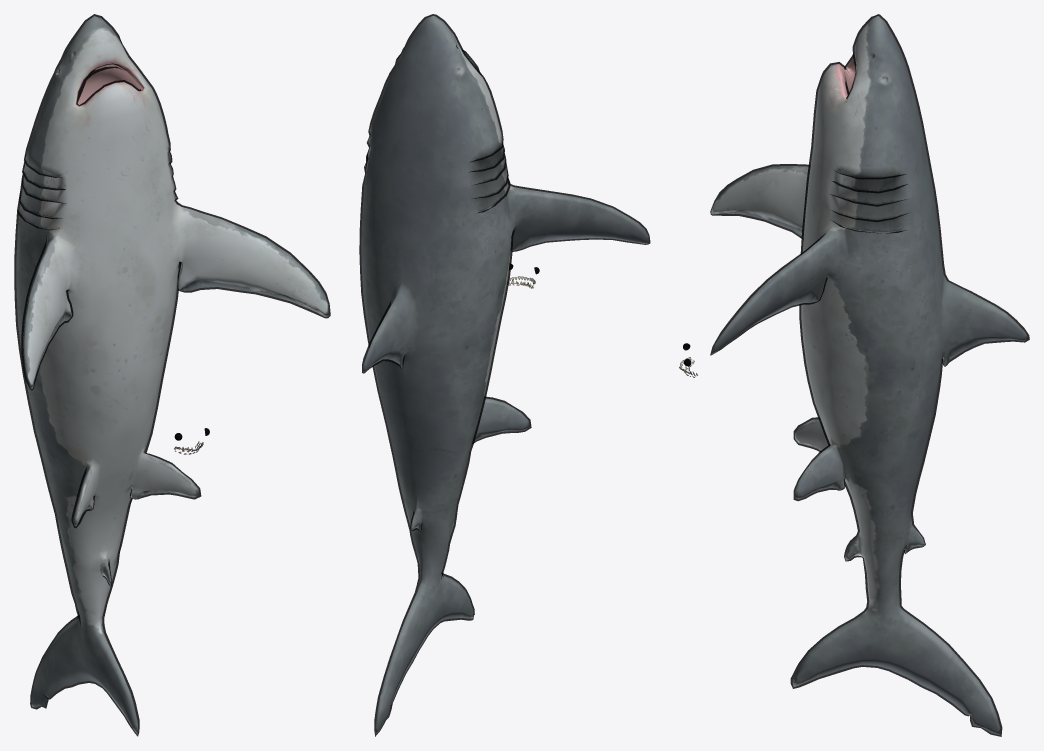
The model's file is great_white.glb.
The picture shows the model from 3 angles, left to right: view 1: azimuth 30°, elevation 25°; view 2: azimuth 150°, elevation 25°; view 3: azimuth 270°, elevation 25°; orthographic projection. The views are drawn at different scales.
Visible parts, largest first — view 1: Object_57, teeth_up.black_Border_mat_0; view 2: Object_57, teeth_up.black_Border_mat_0; view 3: Object_57, teeth_up.black_Border_mat_0.
Boxes of the visible parts, bbox=[...] form: Object_57: bbox=[16, 16, 329, 734]; teeth_up.black_Border_mat_0: bbox=[14, 14, 330, 736]; Object_57: bbox=[361, 15, 649, 734]; teeth_up.black_Border_mat_0: bbox=[359, 14, 650, 736]; Object_57: bbox=[711, 16, 1027, 735]; teeth_up.black_Border_mat_0: bbox=[679, 14, 1029, 736].
Size of the model in its own units: 249 by 581 by 255.
Materials: 3 (2 with a texture image).
